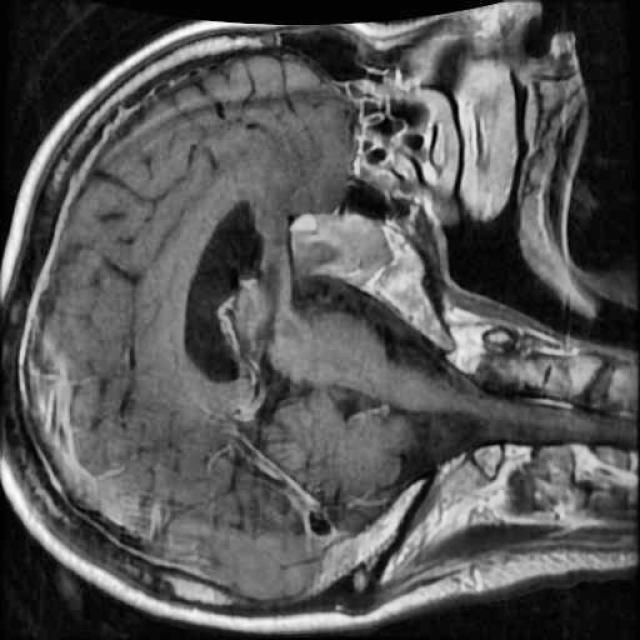Tumor: (280, 200, 410, 310)
